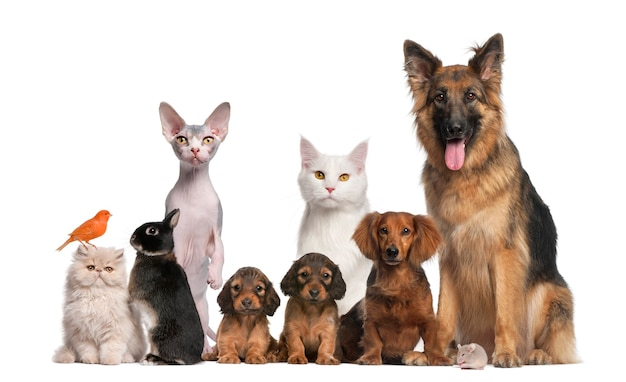cat: (150, 91, 227, 227), (62, 245, 131, 374), (288, 122, 373, 218)
dog: (396, 32, 564, 232), (351, 207, 437, 353), (283, 252, 339, 370), (218, 266, 273, 378)
rabbit: (124, 208, 198, 374)
